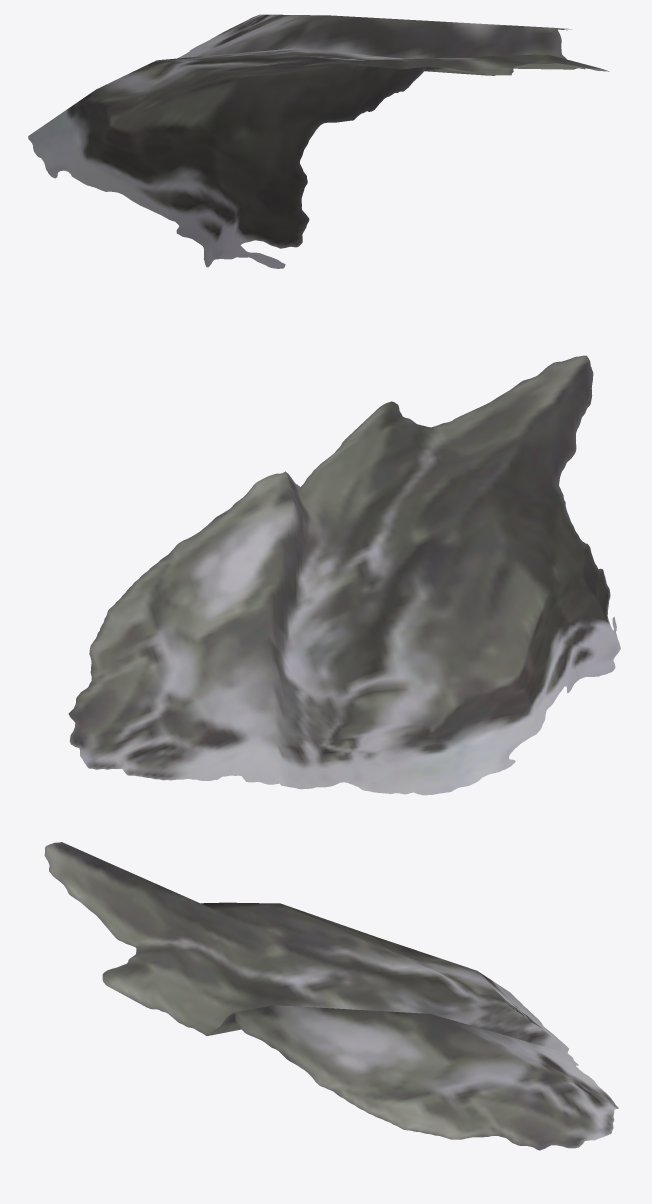
Rendered from rzjd_shitoushan_05.FBX.
The picture shows the model from 3 angles, top to bottom: view 1: azimuth 30°, elevation 25°; view 2: azimuth 150°, elevation 25°; view 3: azimuth 270°, elevation 25°; orthographic projection. The views are drawn at different scales.
Visible parts, largest first — view 1: rzjd_shitoushan_05; view 2: rzjd_shitoushan_05; view 3: rzjd_shitoushan_05.
Part boxes in pixels (box(x1,y1,x2,y2)): rzjd_shitoushan_05: box(28, 14, 609, 268); rzjd_shitoushan_05: box(68, 355, 620, 795); rzjd_shitoushan_05: box(44, 842, 618, 1150).
Size of the model in its own units: 121 by 155 by 57.84.
